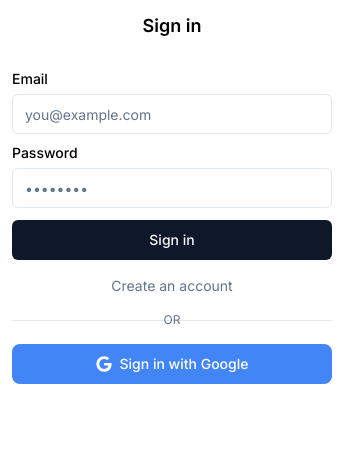
Scenario: Signin › should show name field when Create an account is clicked
What coordinates should you click on to do the following:
click the button "Create an account"
I would click on:
 (172, 286)
Its box is [12,276,332,296].
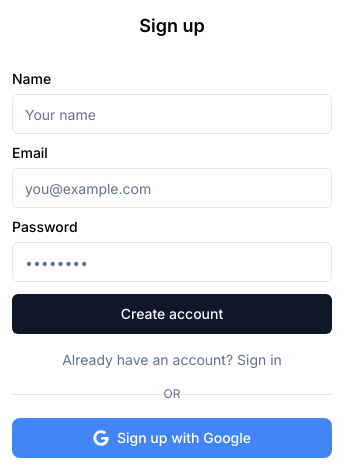
Check: the field labelled "Name" is shown, box [12,94,332,134]
